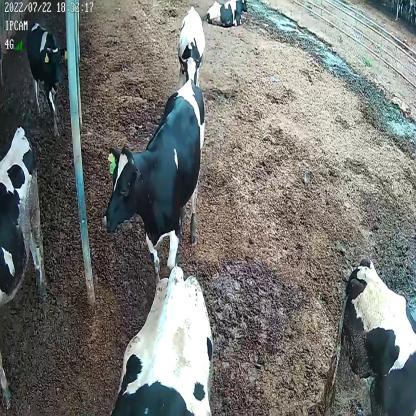cow: (99, 72, 204, 274), (24, 21, 63, 140), (177, 6, 205, 86), (205, 0, 248, 27)
